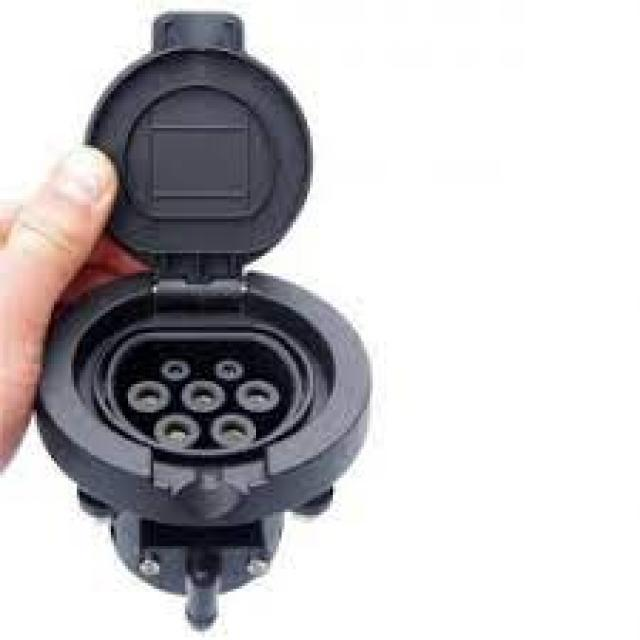Type 2: (48, 279, 342, 572)
